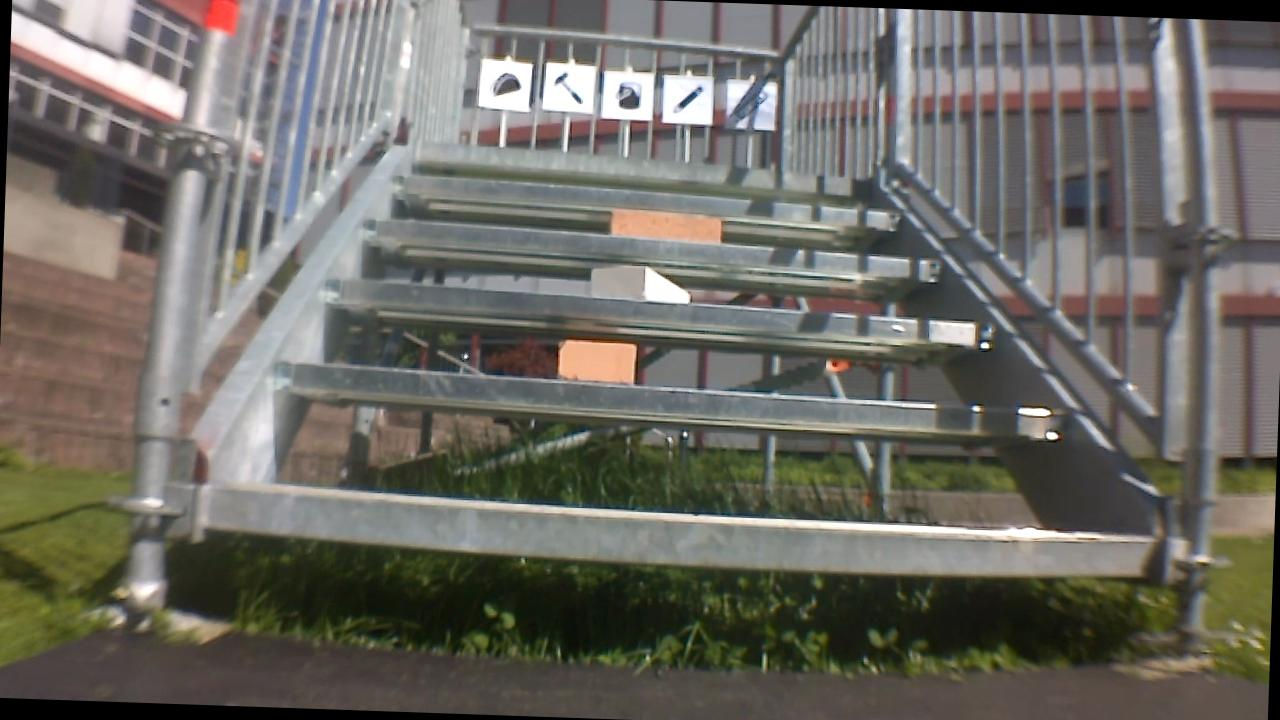brick: (588, 260, 696, 301), (602, 209, 723, 241), (553, 339, 638, 384)
edge: (182, 481, 1168, 572), (257, 360, 1073, 448), (319, 280, 998, 349), (359, 222, 946, 282), (380, 172, 911, 233), (397, 141, 880, 194)
steps: (158, 148, 1179, 580)
